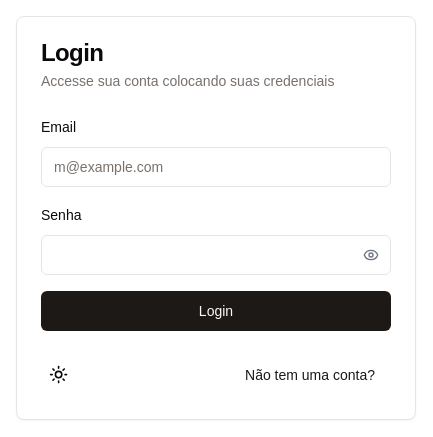
Test: LoginPage › disables the submit button when loading
The width and height of the screenshot is (433, 437).
Type "test@example.com" into the field labelled "Email". click: (216, 167)
box: [41,147,391,187]
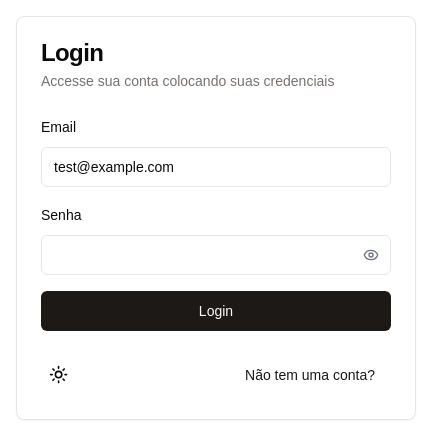
Type "password123" into the field labelled "Senha". click: (216, 255)
box: [41,235,391,275]
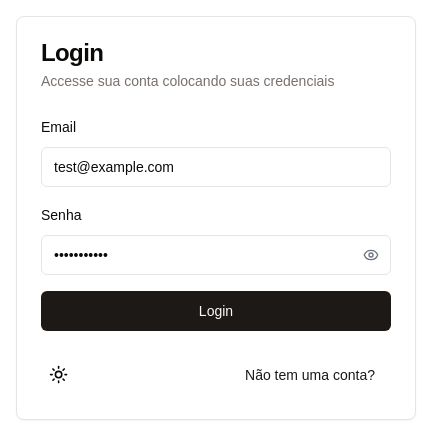
Click the button "Login". click: (216, 311)
box: [41,291,391,331]
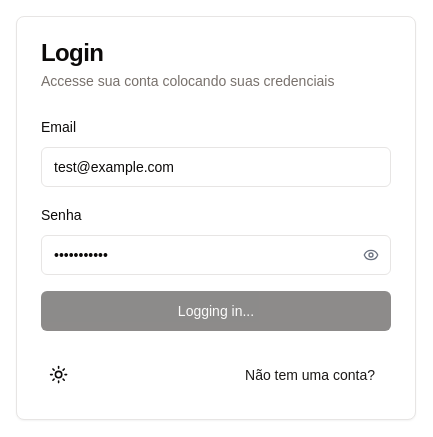
Check: the button "Logging in..." is disabled, box [41,291,391,331]
